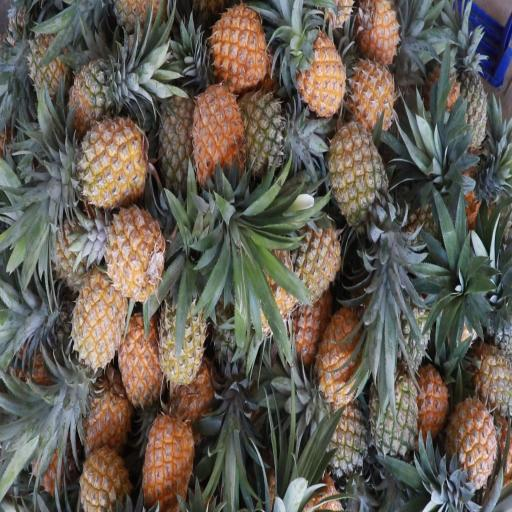------------------------------: (322, 91, 388, 220), (59, 41, 134, 140), (233, 88, 293, 184), (158, 277, 208, 392)
Pineapple - v8 v1: (56, 104, 150, 219), (184, 68, 248, 198), (101, 192, 164, 304), (139, 389, 196, 512), (67, 254, 129, 366), (308, 301, 366, 418), (287, 21, 352, 119), (337, 56, 400, 152), (446, 386, 496, 502), (208, 0, 267, 96), (283, 198, 340, 296), (112, 297, 163, 397), (77, 370, 129, 468), (73, 432, 131, 512)
